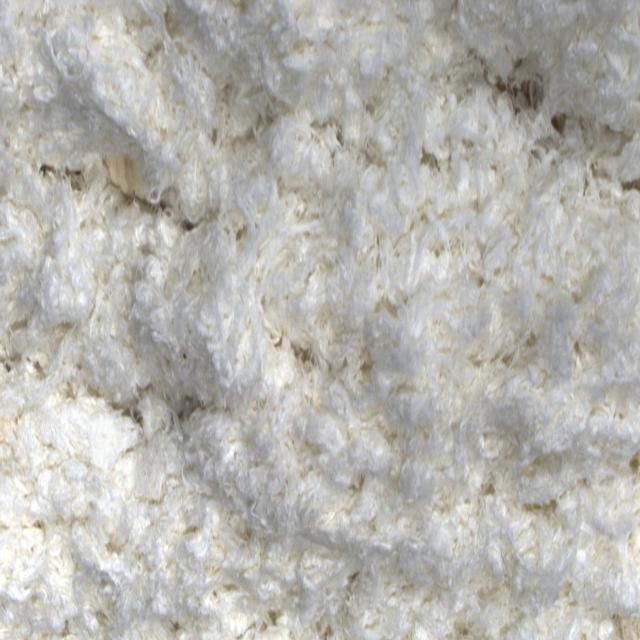dust: (106, 148, 152, 207)
